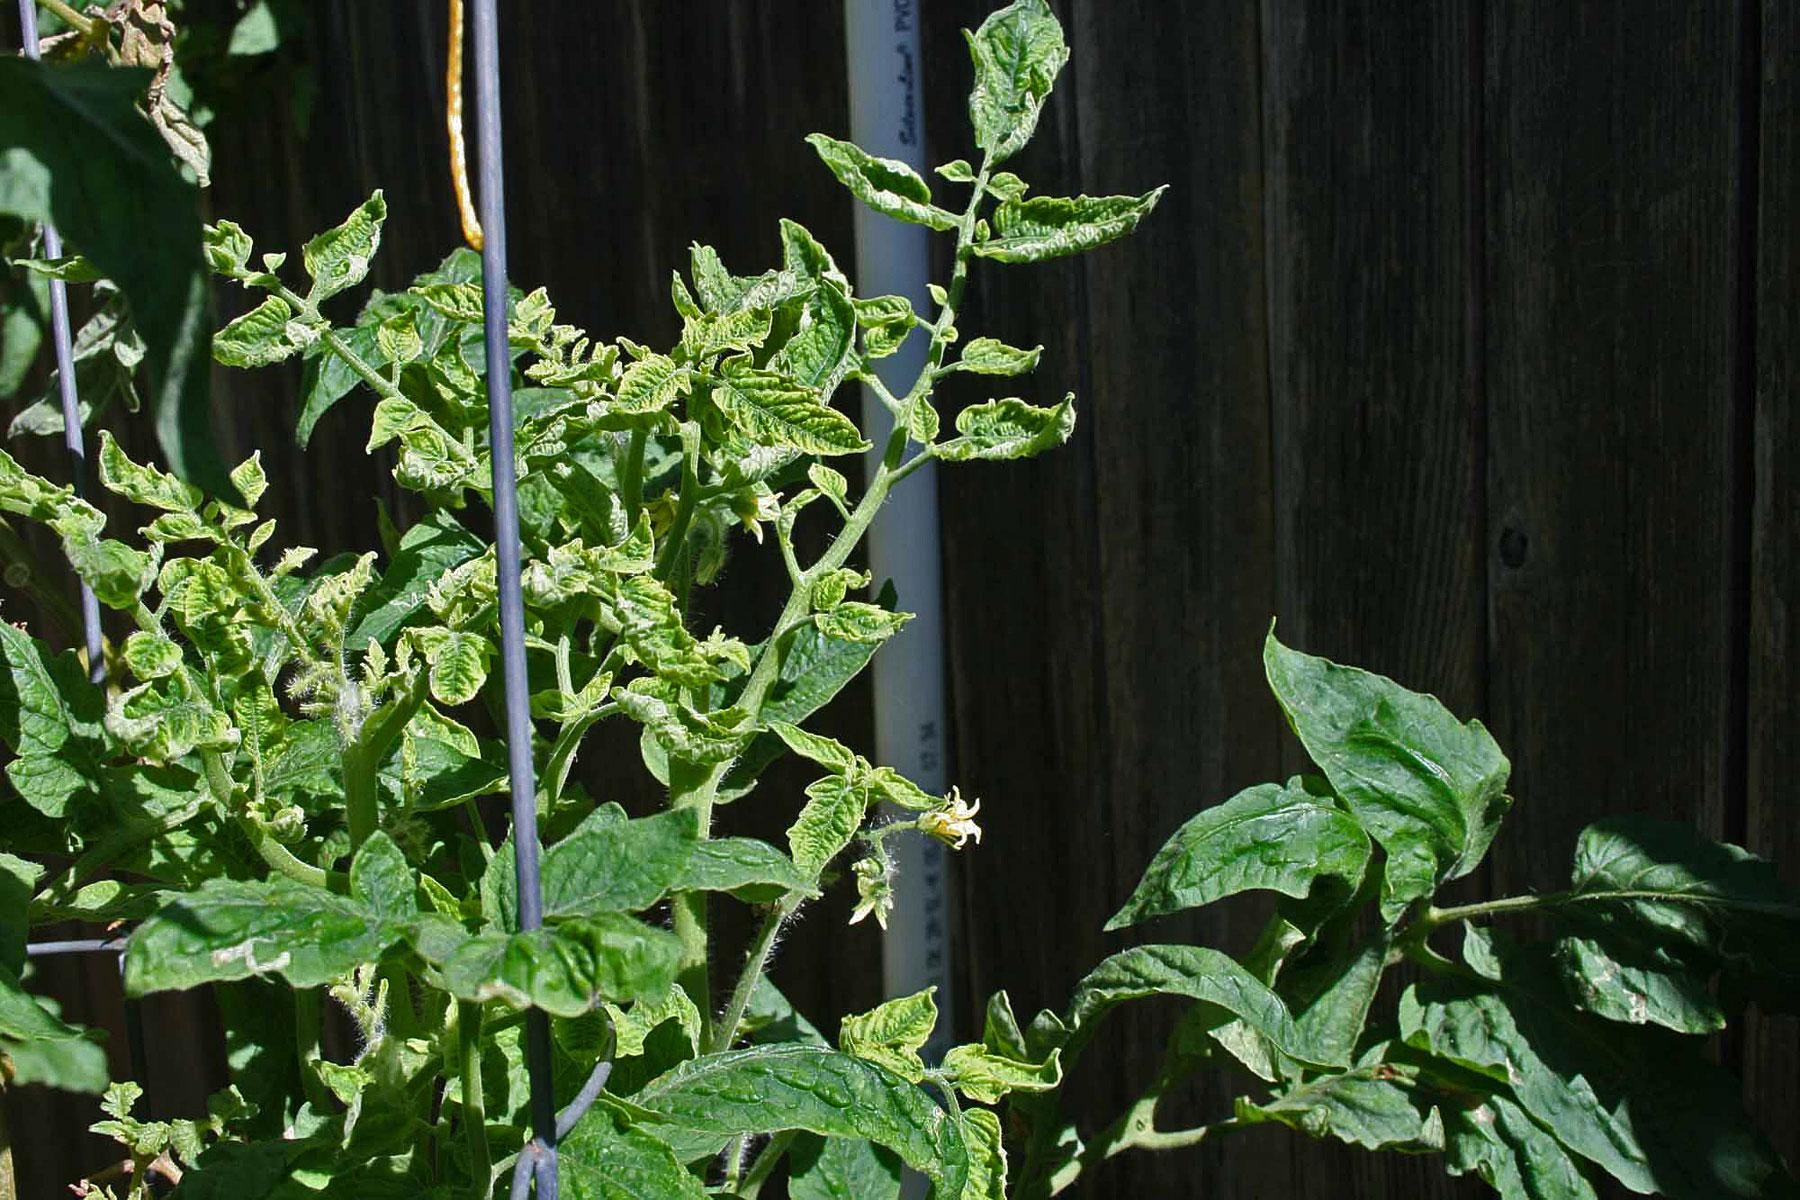Tomato leaf: (98, 842, 429, 1008), (483, 794, 717, 937), (567, 516, 723, 686), (962, 173, 1195, 283), (916, 384, 1114, 483), (692, 360, 868, 469), (954, 1, 1067, 159), (766, 753, 897, 885), (92, 408, 210, 529), (301, 183, 400, 303), (111, 679, 246, 762), (808, 572, 939, 650), (596, 342, 704, 433), (671, 289, 789, 367), (408, 620, 497, 717), (153, 546, 256, 625), (208, 299, 305, 378), (950, 325, 1062, 384), (121, 629, 197, 691)
